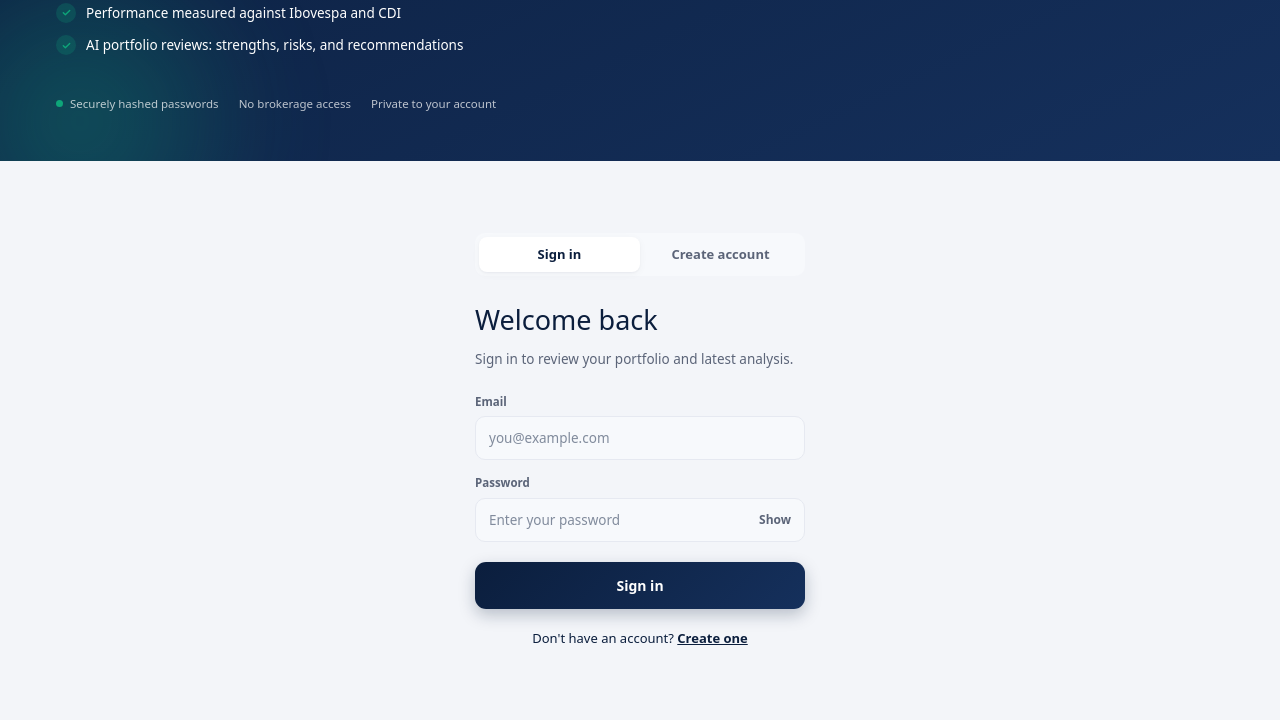
Test: AuthScreen (signin mode) › submitting an invalid email shows the format error
(page scrolled)
Type "ana@" into the field labelled "Email" at [640, 438], box [475, 416, 805, 460]
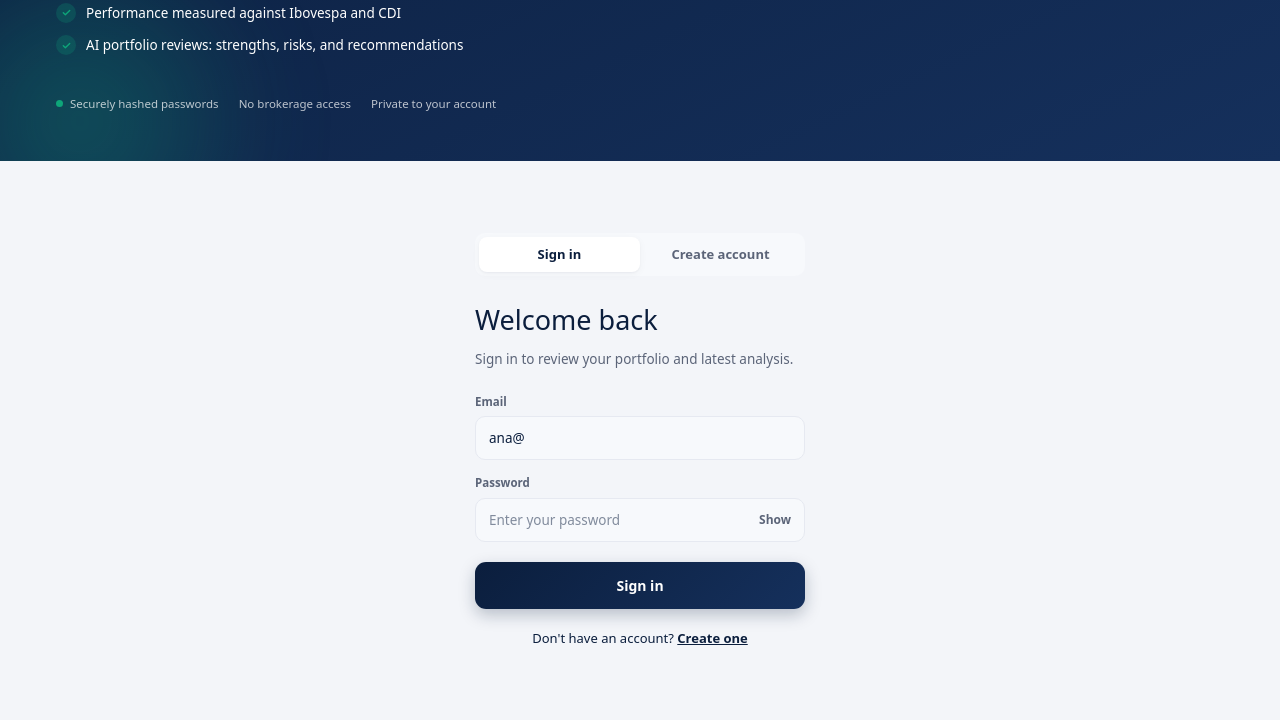
Type "some-password" into the password field labelled "Password" at [640, 520], box [475, 498, 805, 542]
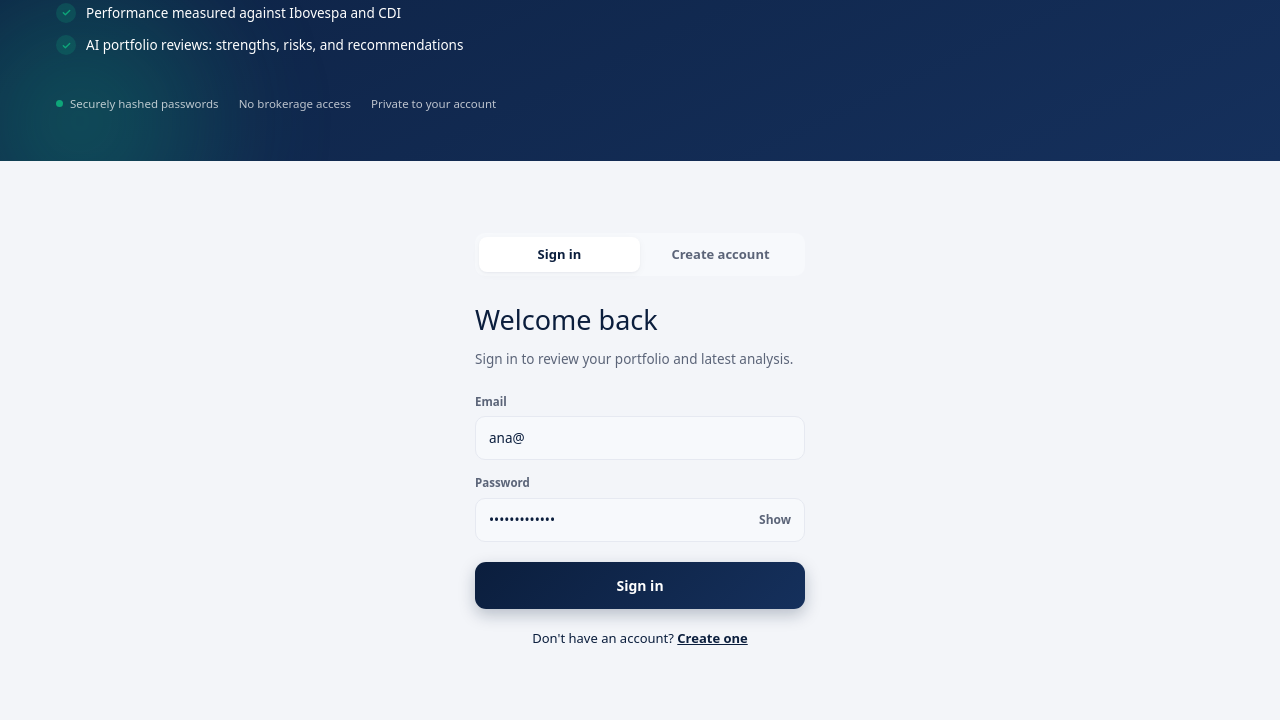
Click the button "Sign in" below "Email" at [640, 585], box [475, 562, 805, 609]
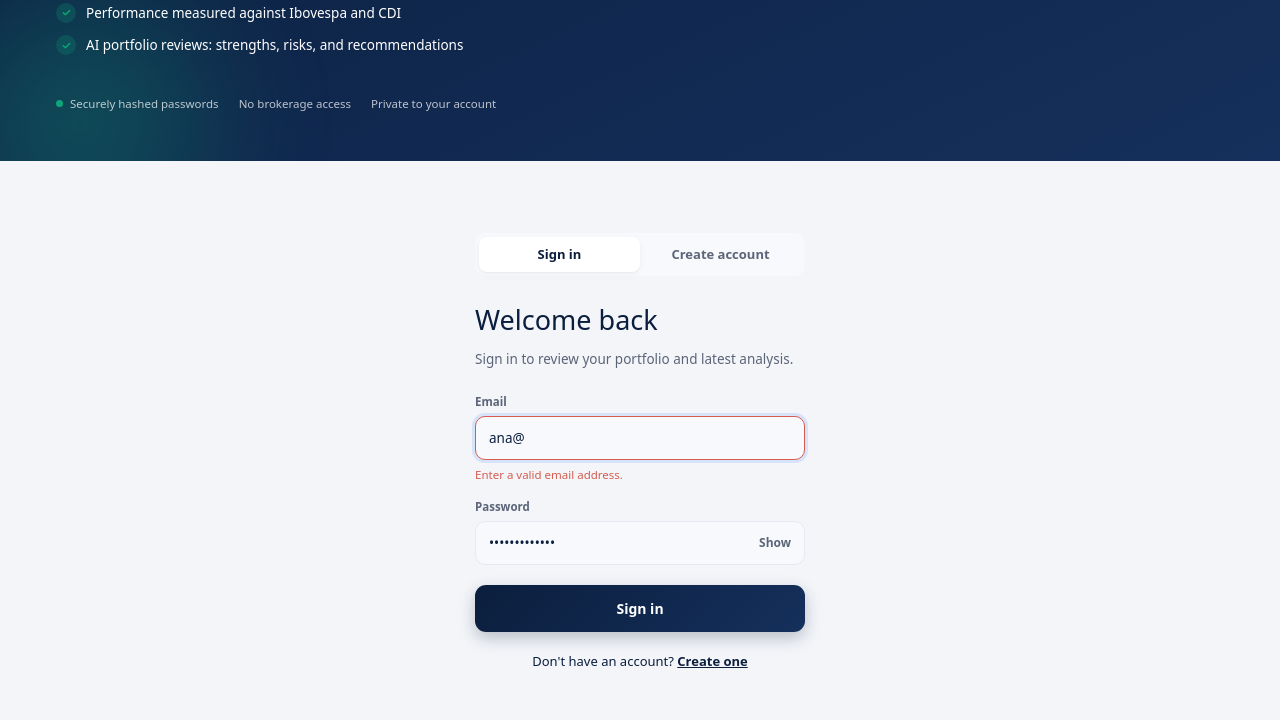
Check: the text "Enter a valid email address." is shown, box [475, 467, 623, 482]
